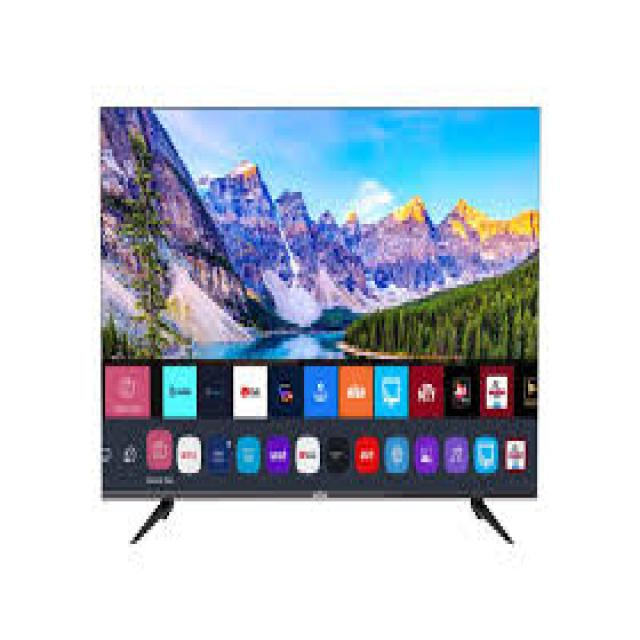tv: (92, 93, 544, 513)
